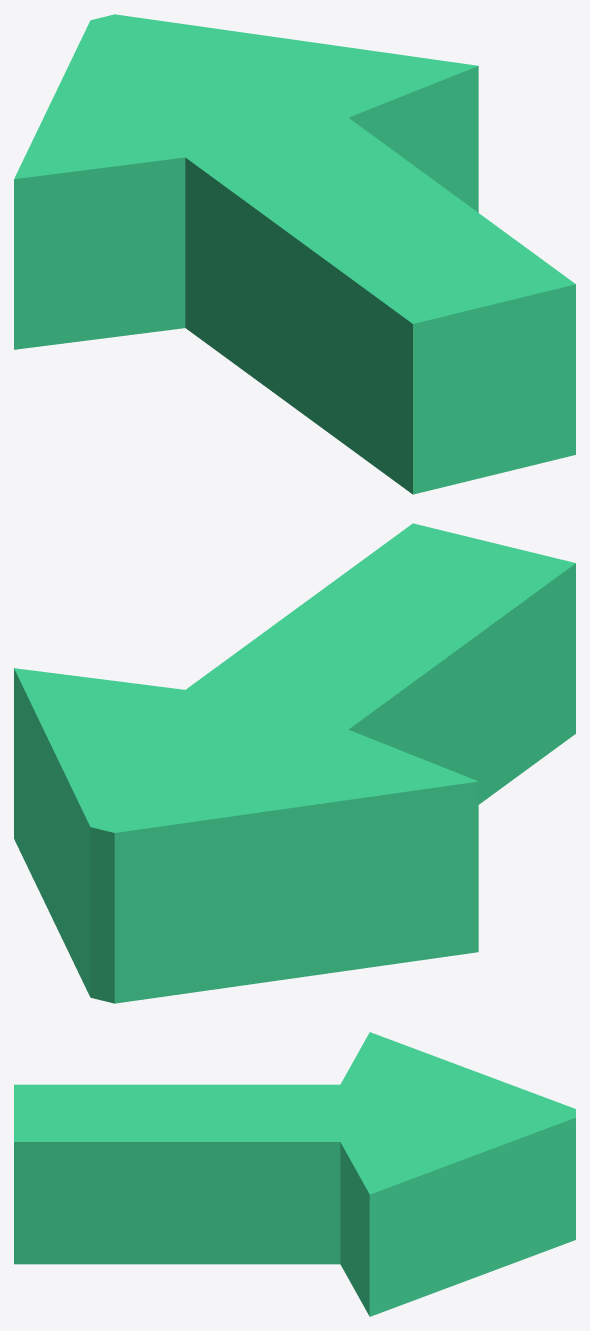
Rendered from arrow_forward.glb.
The picture shows the model from 3 angles, top to bottom: view 1: azimuth 30°, elevation 25°; view 2: azimuth 150°, elevation 25°; view 3: azimuth 270°, elevation 25°; orthographic projection. The views are drawn at different scales.
Parts seen in each view (by area): view 1: Cube.001; view 2: Cube.001; view 3: Cube.001.
Boxes of the visible parts, x1,y1,x2,y2 form: Cube.001: (14, 14, 575, 494); Cube.001: (14, 523, 575, 1003); Cube.001: (14, 1032, 575, 1316).
Bounding box in the file's own units: 1.4 × 0.4895 × 2.04.
